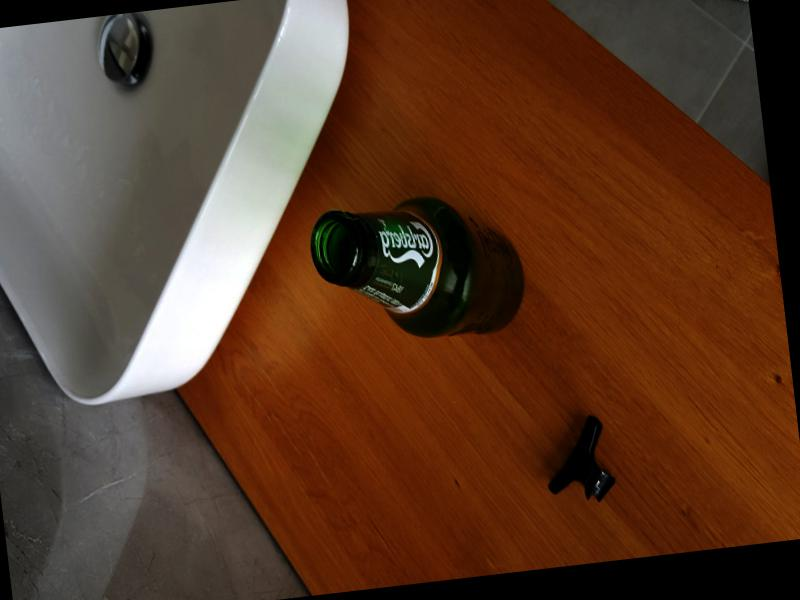Beer: (308, 188, 531, 350)
